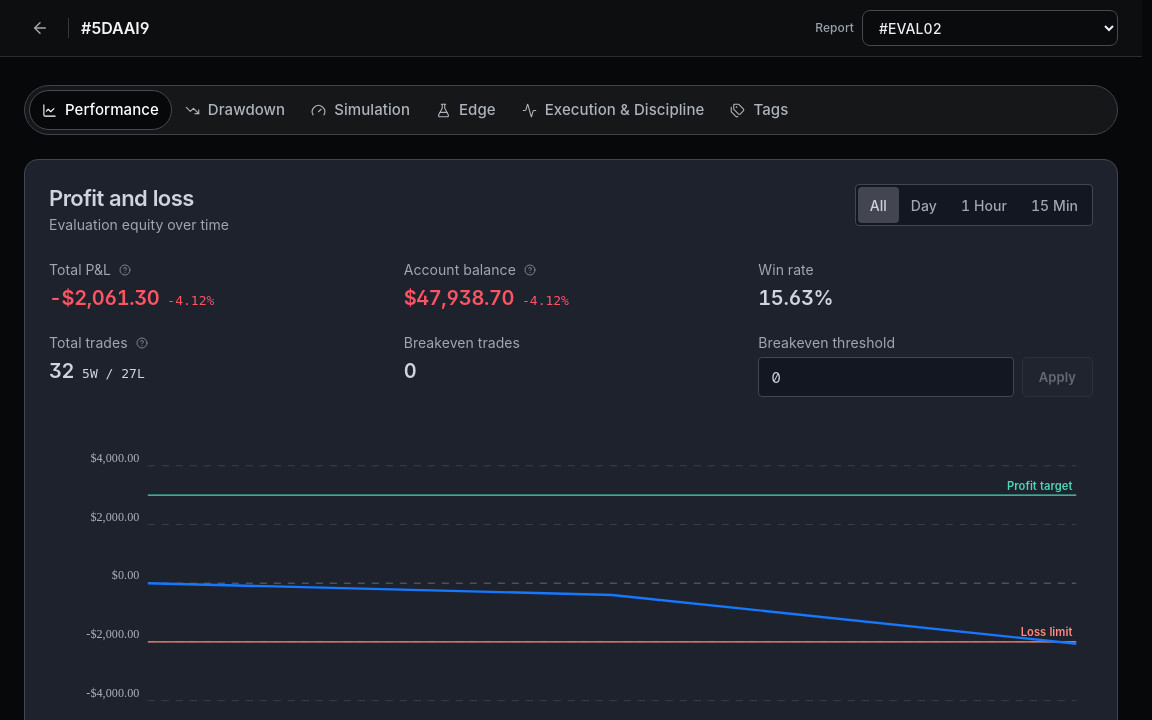
Test: AnalyticsScreen › renders exact account objectives for an evaluation analytics source
The image size is (1152, 720).
Check: the heading "Profit and loss" is shown, box [49, 185, 194, 211]
Check: the text "5W / 27L" is shown, box [82, 365, 145, 383]
Click the button "Day" at x=924, y=205, box [899, 187, 949, 223]
(page scrolled)
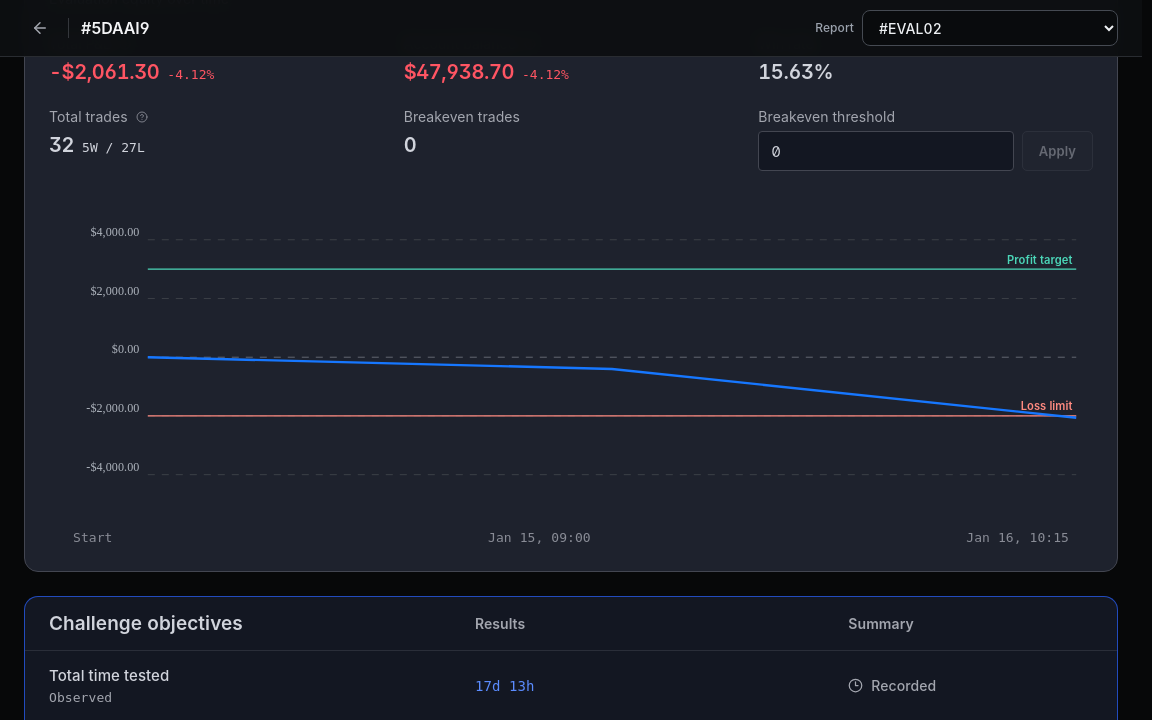
Check: the picture named "Evaluation profit and loss curve for Day period" is shown, box [49, 195, 1093, 525]
